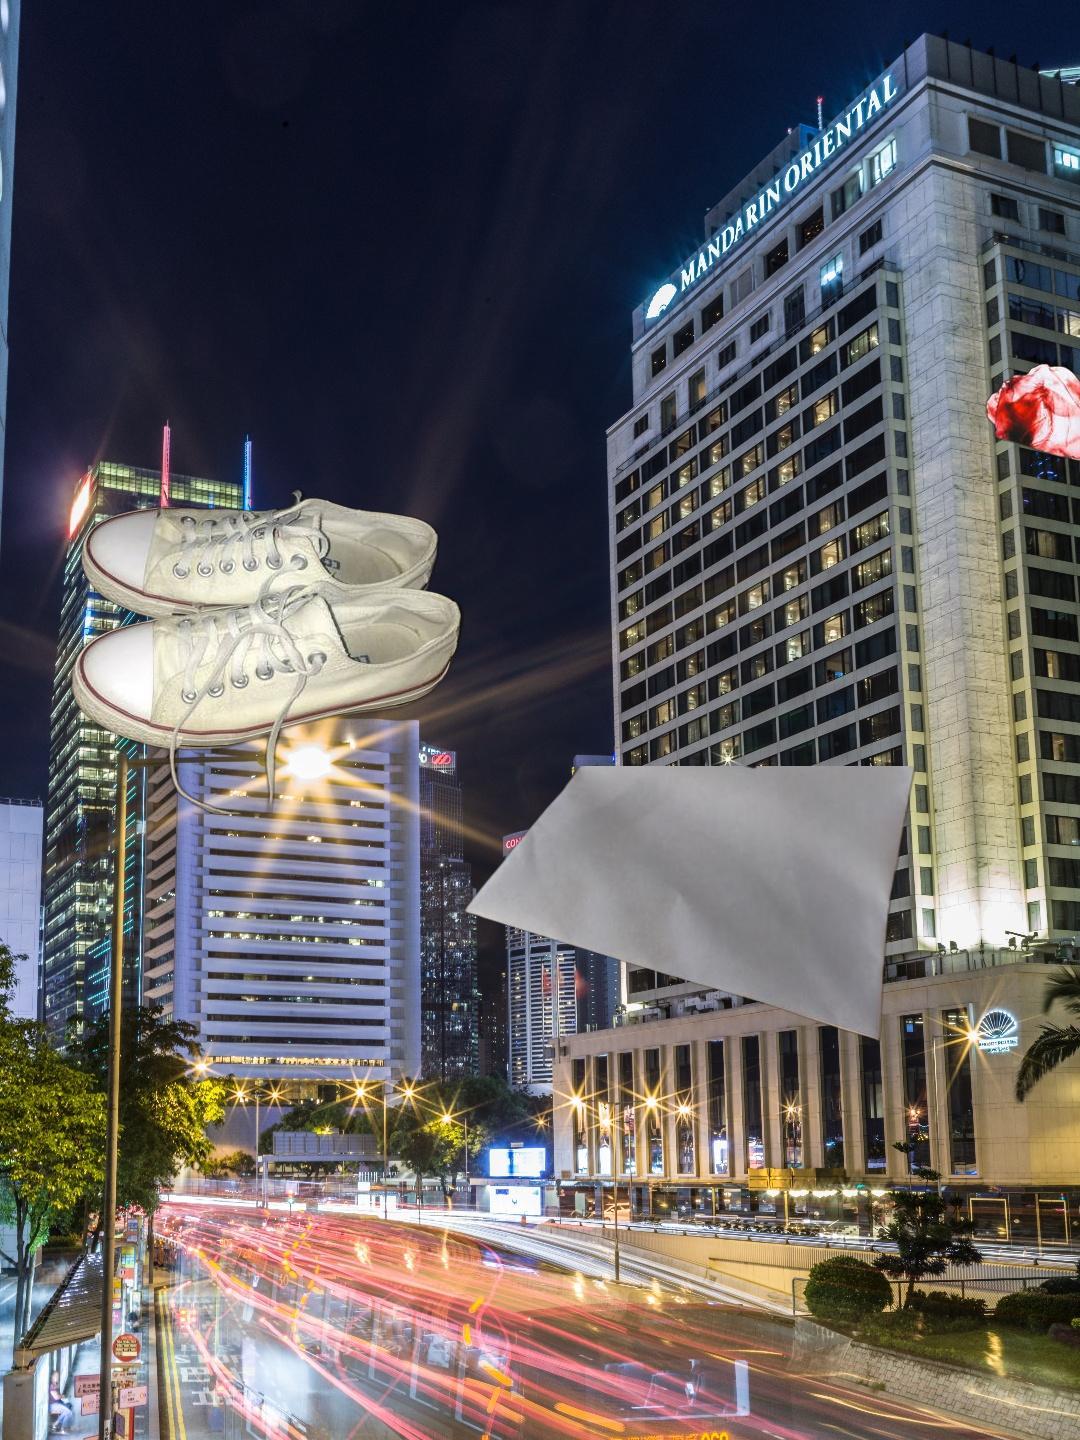paper: (459, 766, 920, 1043)
plastic-bag: (982, 359, 1080, 466)
shoes: (67, 485, 467, 814)
